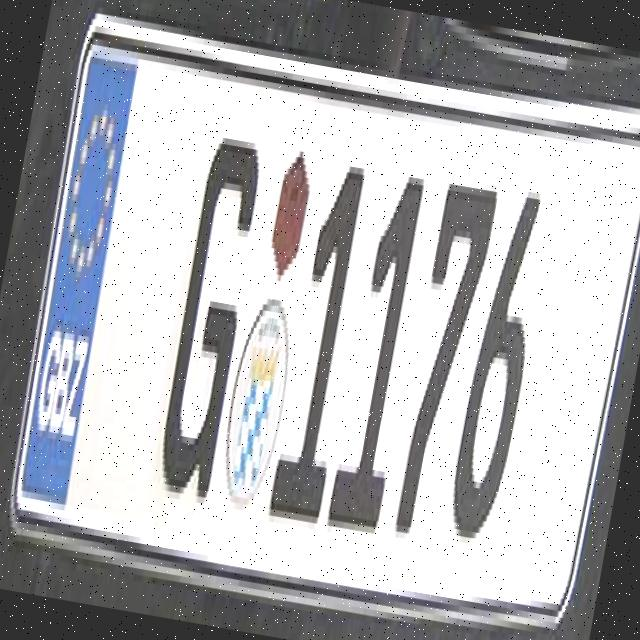Autre: (0, 11, 640, 634)
